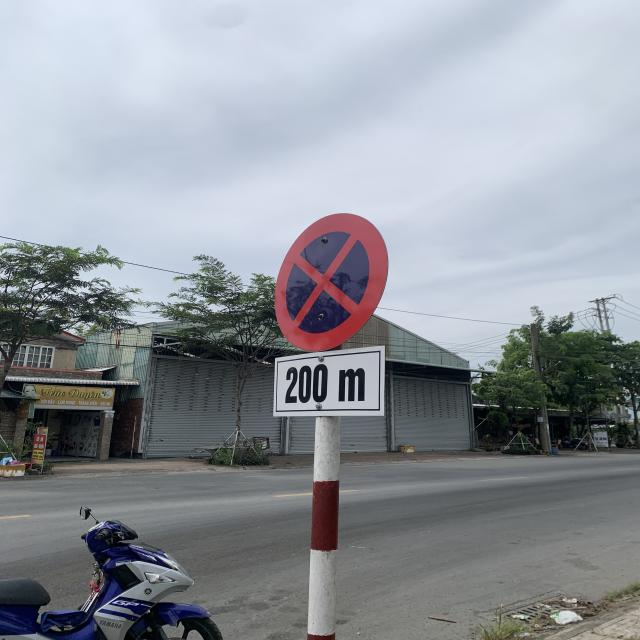Cam_Dung_Va_Dau_Xe: (275, 213, 390, 352)
